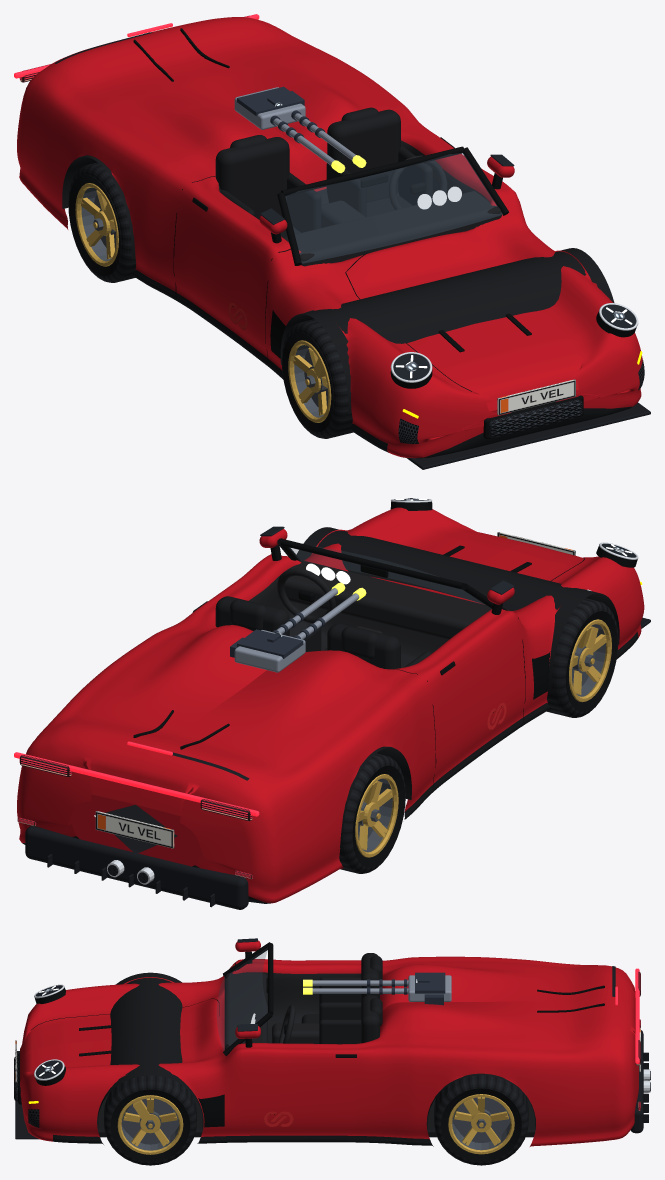
Rendered from velora_s.glb.
3 renders of one model, top to bottom at view 1: azimuth 30°, elevation 25°; view 2: azimuth 150°, elevation 25°; view 3: azimuth 270°, elevation 25°, orthographic. The views are drawn at different scales.
Visible parts, largest first — view 1: chassis, wheel_FR, wheel_RR, gun; view 2: chassis, wheel_FR, wheel_RR, gun; view 3: chassis, wheel_RL, wheel_FL, gun.
Boxes of the visible parts, x1,y1,x2,y2 form: chassis: [14, 14, 650, 469]; wheel_FR: [281, 319, 353, 438]; wheel_RR: [68, 162, 135, 282]; gun: [234, 86, 366, 173]; chassis: [14, 498, 650, 909]; wheel_FR: [546, 598, 618, 717]; wheel_RR: [339, 753, 405, 873]; gun: [230, 582, 366, 672]; chassis: [14, 938, 650, 1146]; wheel_RL: [434, 1075, 528, 1165]; wheel_FL: [104, 1075, 196, 1165]; gun: [303, 972, 451, 1005].
Bounding box in the file's own units: 1.9 × 1.17 × 4.72.
Materials: 27 (7 with a texture image).
